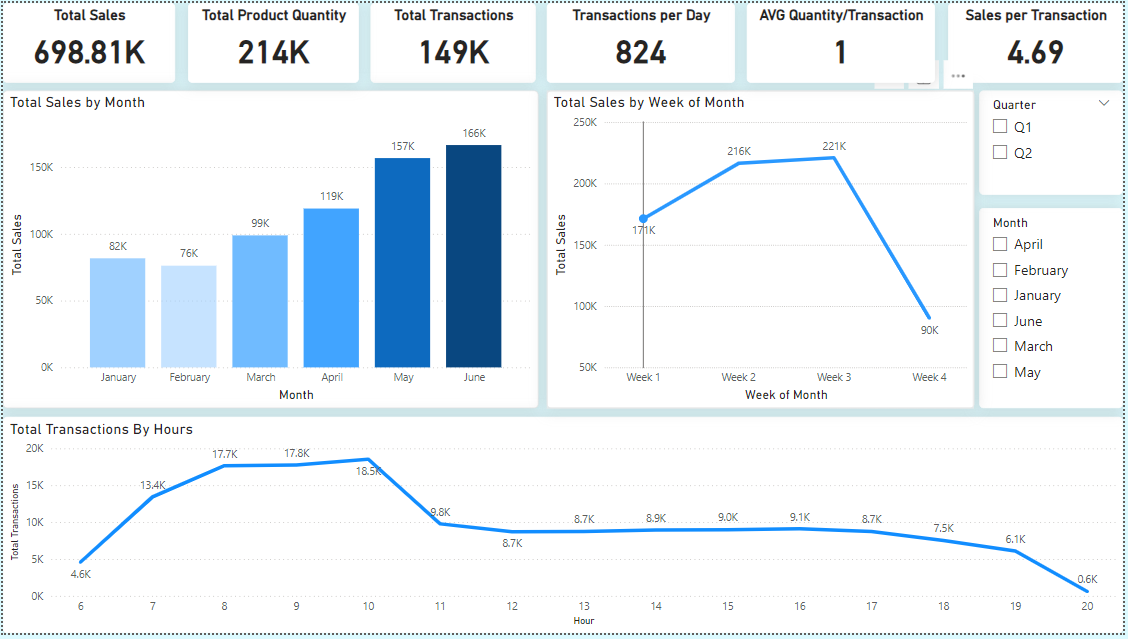

This screenshot's page, from the dashboard's own definition file:
{"tool":"powerbi","page":{"name":"Sales","canvas":[1280,720],"ordinal":0},"visuals":[{"type":"card","title":"Total Sales","fields":{"Values":["All Measure.Total Sales"]},"box":[0,0,196.5,90.8],"z":0},{"type":"card","title":"Total Transactions","fields":{"Values":["All Measure.Total Transactions"]},"box":[420.5,0,189.1,90.8],"z":1000},{"type":"columnChart","fields":{"Category":["Calendar Table.Date.Variation.Date Hierarchy.Month"],"Y":["All Measure.Total Sales"]},"box":[0,99.5,612,363.2],"z":2000},{"type":"lineChart","title":"Total Transactions By Hours","fields":{"Category":["Transactions.Hour"],"Y":["All Measure.Total Transactions"]},"box":[0,472.5,1280,247.5],"z":3000},{"type":"slicer","fields":{"Values":["Calendar.Month"]},"box":[1115.8,233.9,164.2,228.9],"z":4000},{"type":"slicer","fields":{"Values":["Calendar.Quarter"]},"box":[1115.8,99.5,164.2,119.4],"z":5000},{"type":"card","title":"Sales per Transaction ","fields":{"Values":["All Measure.Sales per Transaction"]},"box":[1079.8,0,200.3,90.8],"z":6000},{"type":"card","title":"Total Product Quantity","fields":{"Values":["All Measure.Total Product Quantity"]},"box":[211.5,0,195.3,90.8],"z":7000},{"type":"lineChart","fields":{"Category":["Calendar Table.Week of Month"],"Y":["All Measure.Total Sales"]},"box":[620.7,99.5,488.9,363.2],"z":8000},{"type":"card","title":"Transactions per Day","fields":{"Values":["All Measure.Transactions Per Day"]},"box":[620.7,0,215.2,90.8],"z":9000},{"type":"card","title":"AVG Quantity/Transaction","fields":{"Values":["All Measure.Product Quantitys per Transaction"]},"box":[849.6,0,215.2,90.8],"z":10000}]}

Visuals, with their boxes in screenshot pixels (x1, y1, x2, y2), scaled from the page's 1280x720 canvas onto the 1128x639 screenshot:
"Total Sales" card: <bbox>0, 0, 173, 81</bbox>
"Total Transactions" card: <bbox>371, 0, 537, 81</bbox>
columnChart - Calendar Table.Date.Variation.Date Hierarchy.Month x All Measure.Total Sales: <bbox>0, 88, 539, 411</bbox>
"Total Transactions By Hours" lineChart: <bbox>0, 419, 1127, 638</bbox>
slicer - Calendar.Month: <bbox>983, 208, 1127, 411</bbox>
slicer - Calendar.Quarter: <bbox>983, 88, 1127, 194</bbox>
"Sales per Transaction " card: <bbox>952, 0, 1127, 81</bbox>
"Total Product Quantity" card: <bbox>186, 0, 358, 81</bbox>
lineChart - Calendar Table.Week of Month x All Measure.Total Sales: <bbox>547, 88, 978, 411</bbox>
"Transactions per Day" card: <bbox>547, 0, 737, 81</bbox>
"AVG Quantity/Transaction" card: <bbox>749, 0, 938, 81</bbox>
